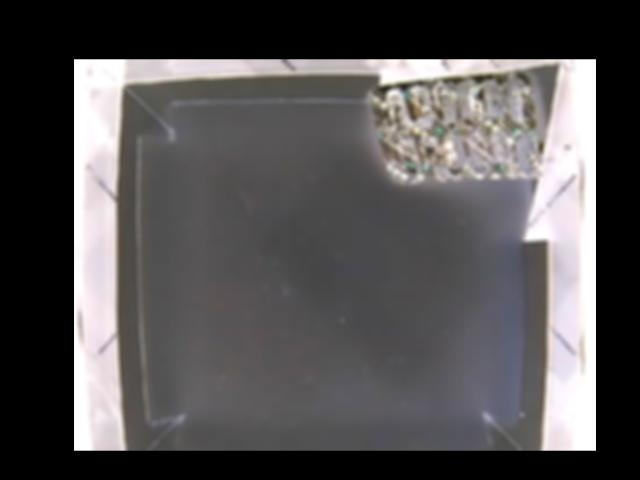Medicine: (368, 70, 543, 188)
